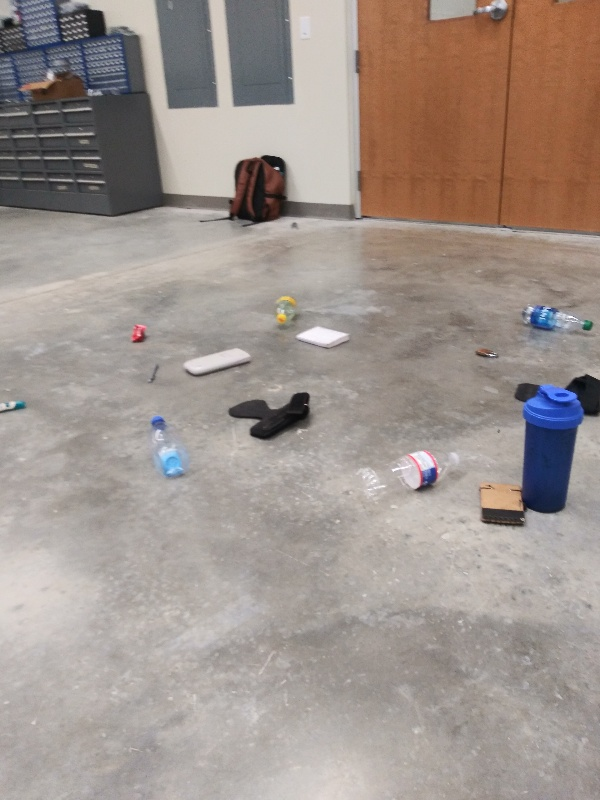bottle: (347, 445, 461, 511), (147, 410, 190, 480), (517, 302, 596, 339), (271, 289, 301, 325)
